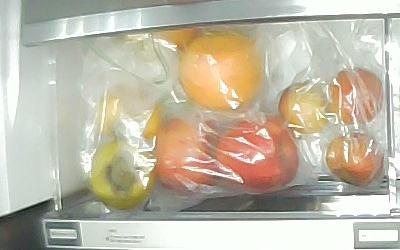apple_vinyl: (216, 116, 298, 192), (151, 115, 219, 193)
grapefruit_vinyl: (179, 29, 264, 111)
persimmon_vinyl: (89, 138, 155, 210)
prune_vinyl: (325, 132, 384, 188), (328, 67, 383, 126), (278, 81, 328, 135)
